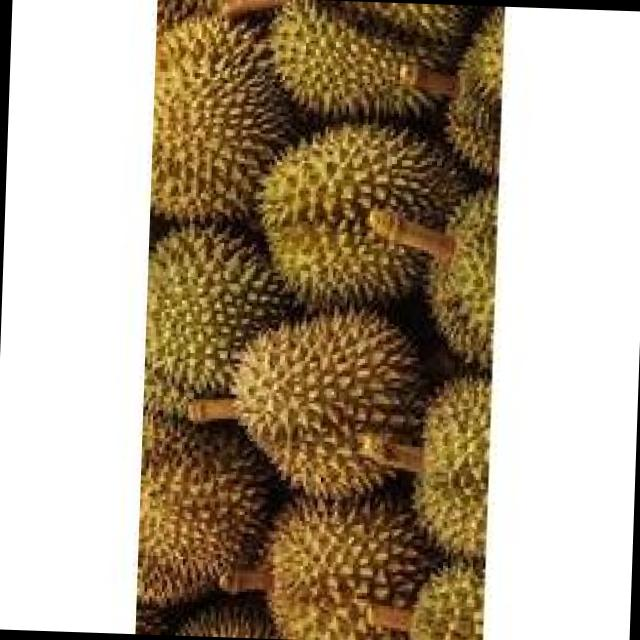fruit: (232, 102, 477, 328), (208, 292, 451, 518), (145, 0, 314, 248), (132, 388, 300, 630), (236, 471, 452, 640), (241, 0, 493, 141)
